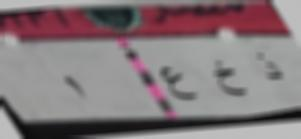1: (61, 68, 89, 104)
ain: (159, 62, 197, 105)
khaa: (210, 58, 250, 100)
zaal: (252, 48, 286, 86)
